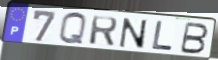7: (31, 9, 57, 43)
B: (178, 21, 210, 55)
L: (151, 20, 175, 53)
N: (119, 17, 149, 50)
Q: (57, 11, 88, 46)
R: (87, 15, 119, 48)
